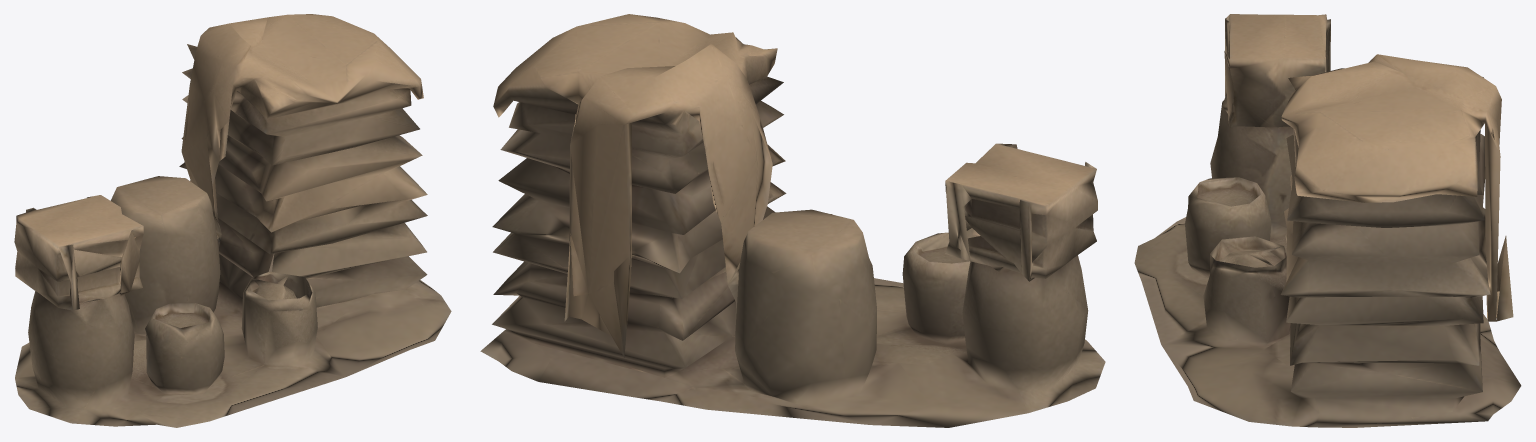
Rendered from prp_clutter_pile_a.glb.
The picture shows the model from 3 angles, left to right: view 1: azimuth 30°, elevation 25°; view 2: azimuth 150°, elevation 25°; view 3: azimuth 270°, elevation 25°; orthographic projection. The views are drawn at different scales.
Parts seen in each view (by area): view 1: prp_clutter_pile_a; view 2: prp_clutter_pile_a; view 3: prp_clutter_pile_a.
Part boxes in pixels (box(x1,y1,x2,y2)): prp_clutter_pile_a: box(14, 14, 451, 427); prp_clutter_pile_a: box(480, 14, 1105, 427); prp_clutter_pile_a: box(1134, 14, 1521, 427).
Bounding box in the file's own units: 2.56 × 1.5 × 1.8.
Materials: 1 (1 with a texture image).
